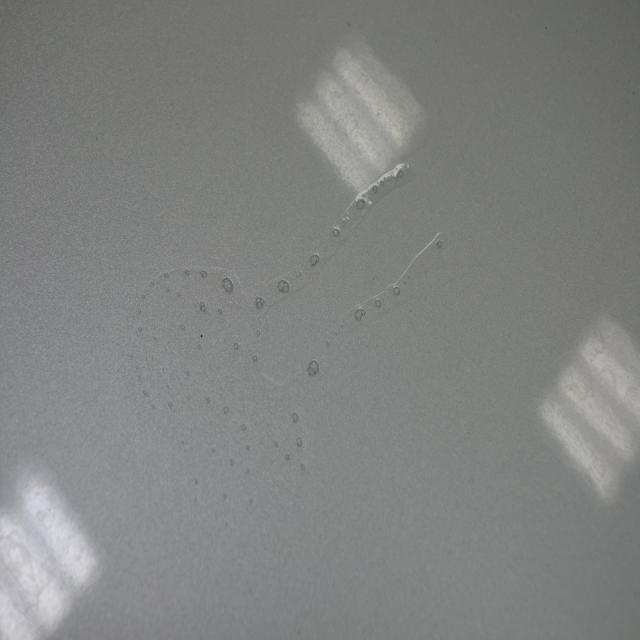runs: (126, 165, 455, 551)
water marks: (286, 46, 382, 166)
